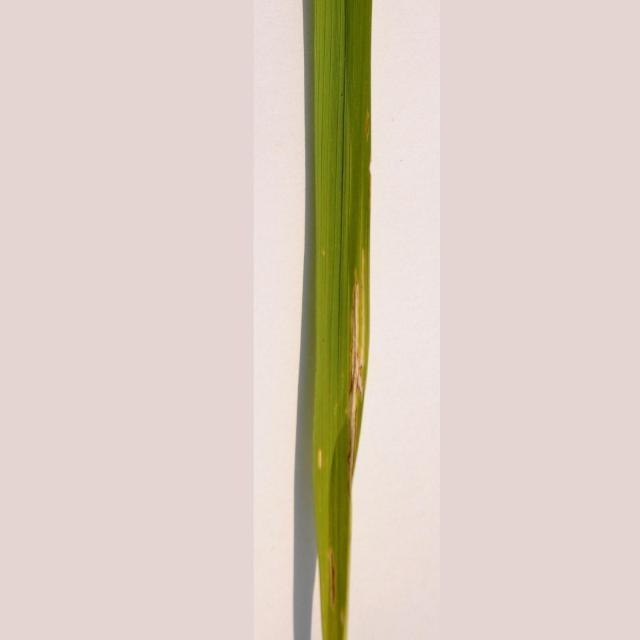leaf blight: (339, 242, 379, 470), (314, 442, 350, 633)
